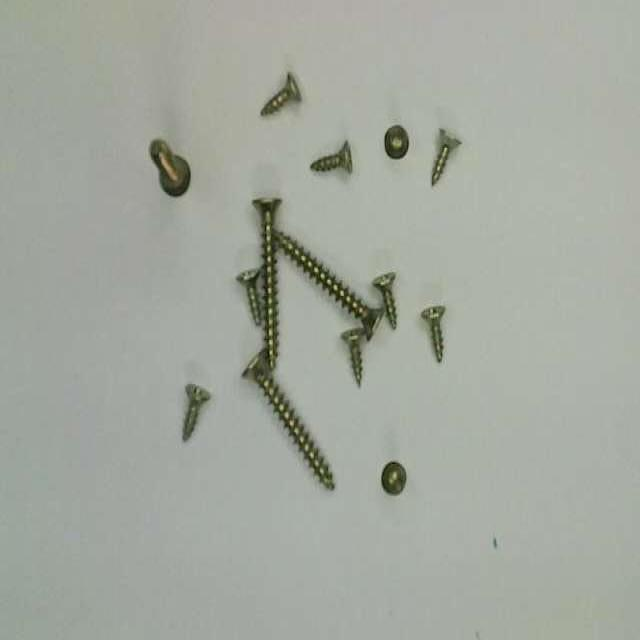Parafuso: (243, 349, 334, 489), (273, 229, 384, 339), (253, 200, 281, 368), (150, 139, 190, 196), (261, 72, 301, 115), (431, 129, 460, 184), (183, 383, 210, 440), (372, 273, 396, 328), (341, 328, 364, 385), (422, 305, 445, 361), (310, 141, 351, 172), (236, 269, 259, 324), (382, 461, 406, 493), (385, 125, 408, 157)
